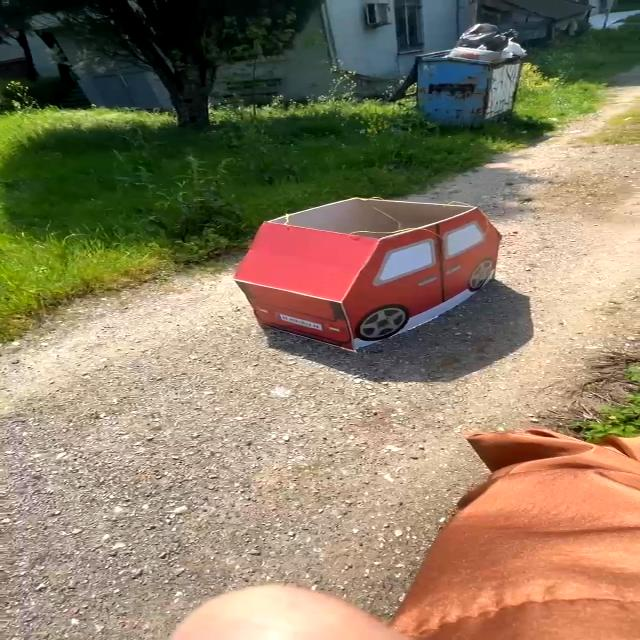red_car: (219, 189, 517, 365)
